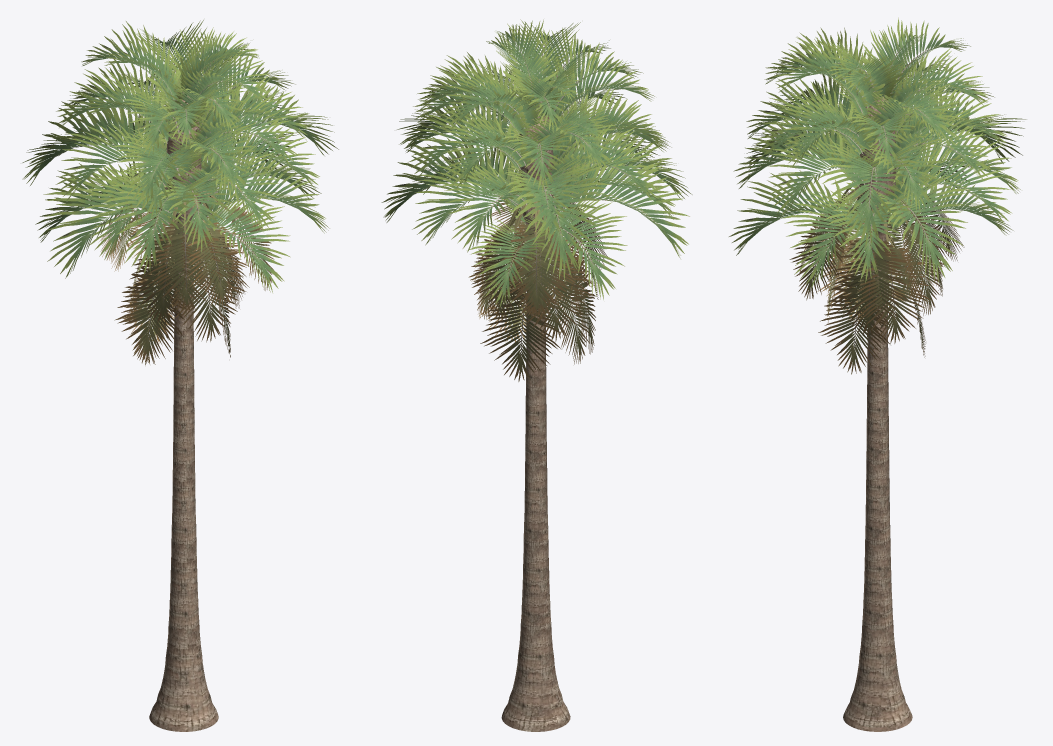
The model's file is palm_tall.glb.
3 views of the same model, side by side, from view 1: azimuth 30°, elevation 25°; view 2: azimuth 150°, elevation 25°; view 3: azimuth 270°, elevation 25° (orthographic).
Visible parts, largest first — view 1: Tree_1_Palm_4_Leaf_0, Tree_1_Plam_4_Trunk_0; view 2: Tree_1_Palm_4_Leaf_0, Tree_1_Plam_4_Trunk_0; view 3: Tree_1_Palm_4_Leaf_0, Tree_1_Plam_4_Trunk_0.
Boxes of the visible parts, x1,y1,x2,y2 form: Tree_1_Palm_4_Leaf_0: (22, 20, 338, 365); Tree_1_Plam_4_Trunk_0: (149, 92, 218, 731); Tree_1_Palm_4_Leaf_0: (381, 19, 692, 381); Tree_1_Plam_4_Trunk_0: (501, 97, 570, 731); Tree_1_Palm_4_Leaf_0: (729, 17, 1026, 374); Tree_1_Plam_4_Trunk_0: (843, 91, 912, 731).
Size of the model in its own units: 7.09 by 15.94 by 6.6.
Materials: 2 (2 with a texture image).
